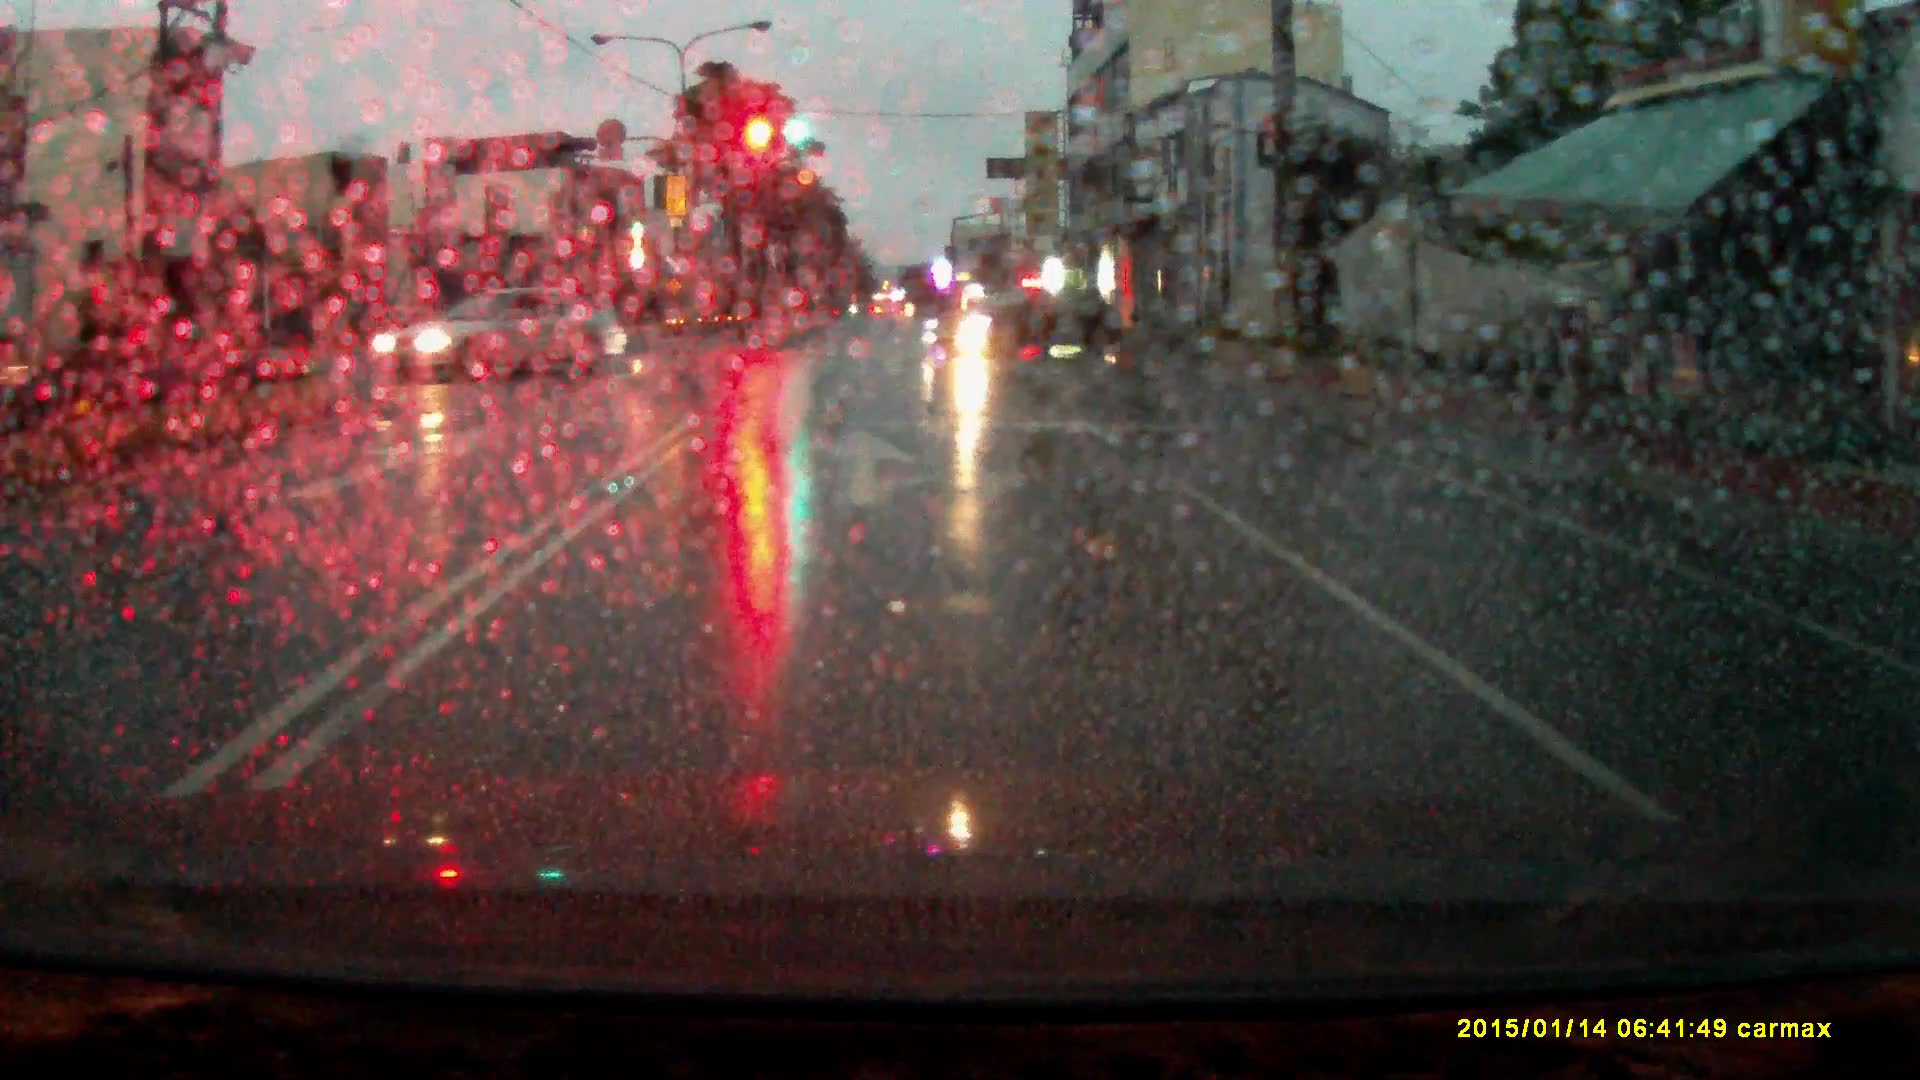vehicle: (376, 286, 632, 386), (926, 290, 1129, 363)
